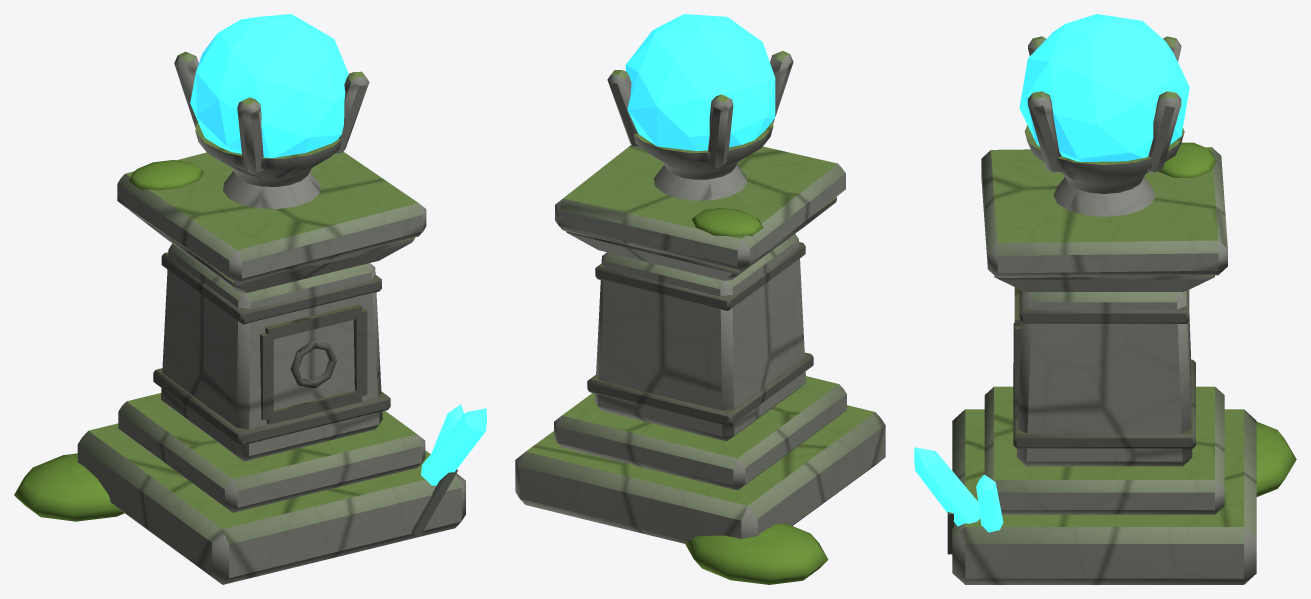
Rendered from stone_orb_pedestal.glb.
3 renders of one model, left to right at view 1: azimuth 30°, elevation 25°; view 2: azimuth 150°, elevation 25°; view 3: azimuth 270°, elevation 25°, orthographic. The views are drawn at different scales.
Visible parts, largest first — view 1: stone_orb_pedestal; view 2: stone_orb_pedestal; view 3: stone_orb_pedestal.
Part boxes in pixels (box(x1,y1,x2,y2)): stone_orb_pedestal: box(14, 14, 486, 584); stone_orb_pedestal: box(515, 14, 885, 584); stone_orb_pedestal: box(914, 14, 1296, 584).
Size of the model in its own units: 1.2 by 1.8 by 1.19.
5 materials, 3 textured.
